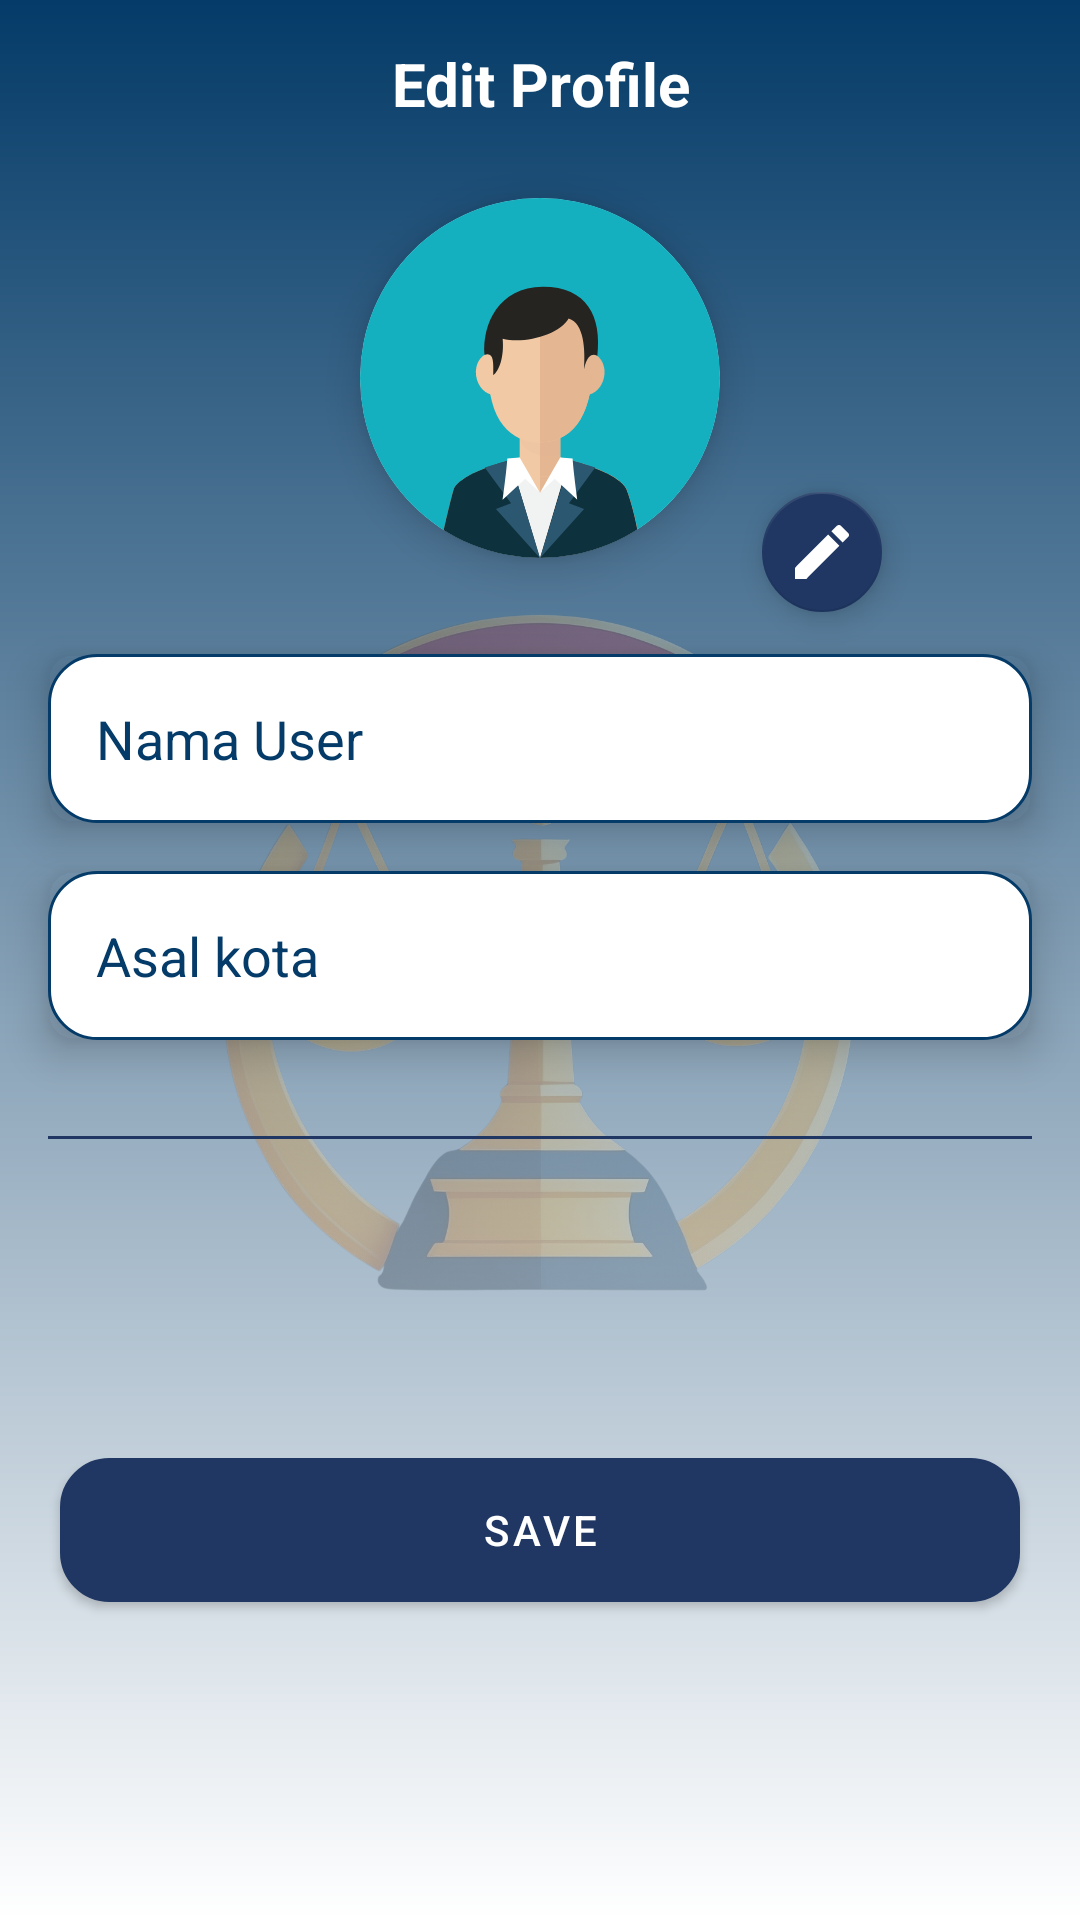

Screen size 1080 × 1920. Icon name, then its center in pixels as point (x, y):
Floating Button: point (822, 552)
